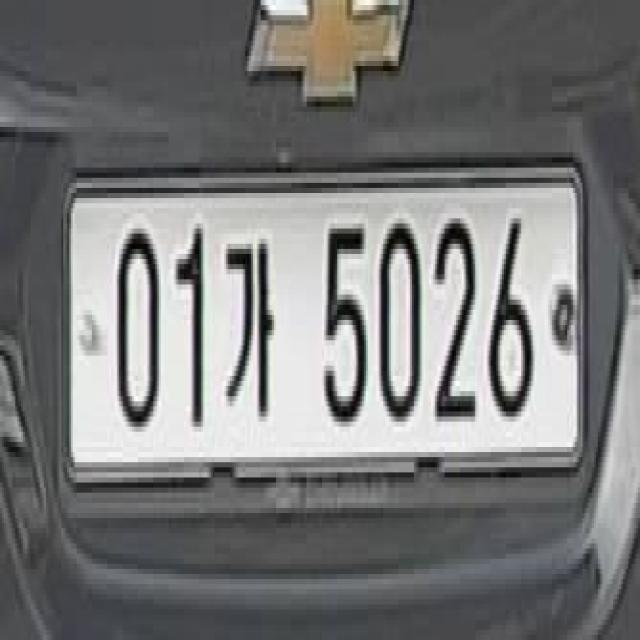illegal_plate: (65, 150, 592, 516)
